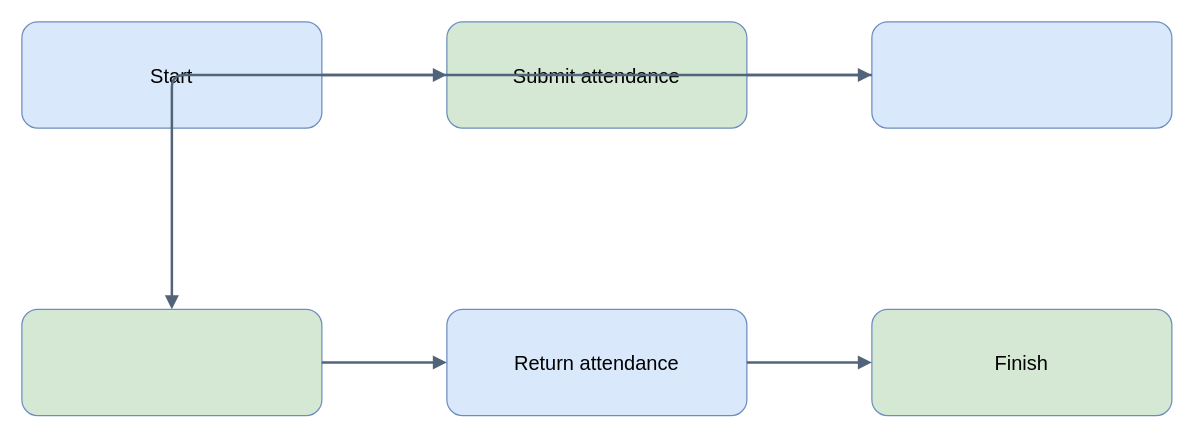
Some shapes in this 1194 by 438 pixel diagram are drawn without their labels. Here are the shapes that lost their labels. From the top down, the centre of each, then its label:
the point at 1021,74: Validate fields
the point at 171,362: Save to H2
